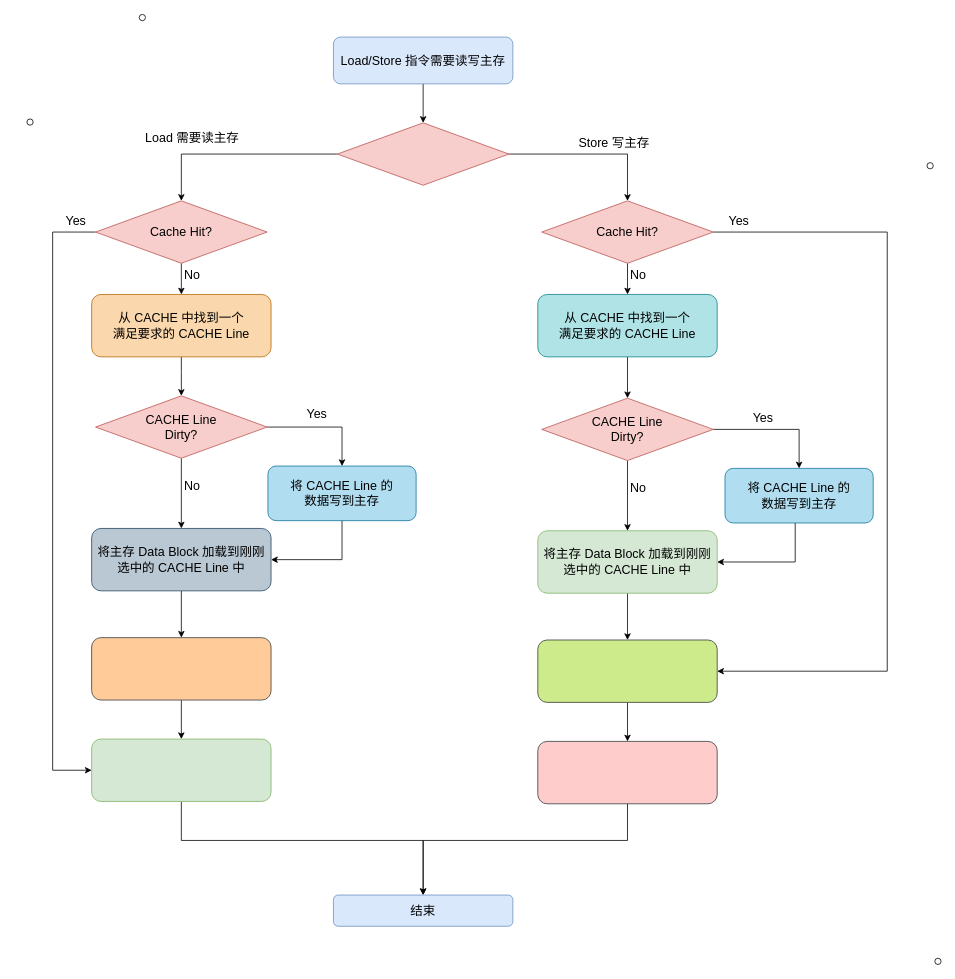
Some shapes in this 955 by 979 pixel diagram are drawn without their labels. Each missing label, with the centre of its shape:
"Load?Store" belongs at point (423, 153).
"将 Store 指令写入的数据 写入到 CACHE Line 中" belongs at point (627, 670).
"将所需的数据从 CACHE Line 中返回给 Load 指令" belongs at point (181, 769).
"将该 CACHE Line 标记为 No-Dirty 的初始态" belongs at point (181, 668).
"将这个 CACHE Line 标记为 Dirty 状态" belongs at point (627, 772).
